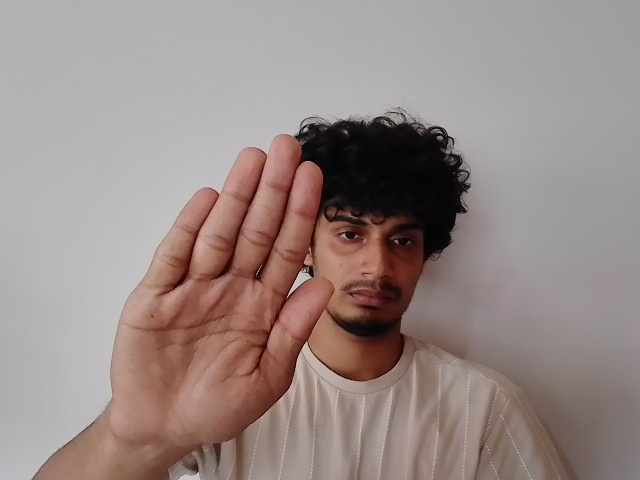hello: (109, 134, 337, 438)
